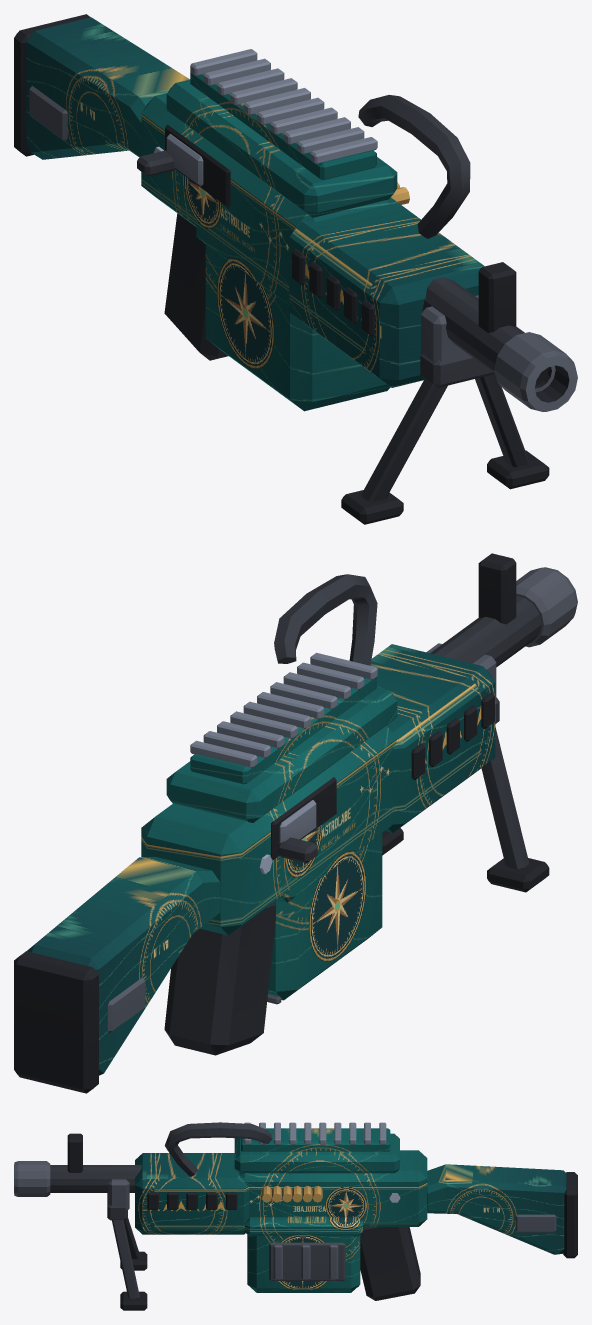
Rendered from M249_Astrolabe.glb.
3 views of the same model, one above another, from view 1: azimuth 30°, elevation 25°; view 2: azimuth 150°, elevation 25°; view 3: azimuth 270°, elevation 25° (orthographic). The views are drawn at different scales.
Visible parts, largest first — view 1: Main, Stock, Magazine, Bipod, Bolt; view 2: Main, Stock, Magazine, Bipod, Bolt; view 3: Main, Stock, Magazine, Bipod.
Boxes of the visible parts, x1,y1,x2,y2 form: Main: (141, 49, 577, 411); Stock: (14, 14, 189, 159); Magazine: (196, 226, 390, 411); Bipod: (341, 353, 549, 524); Bolt: (137, 134, 203, 186); Main: (141, 553, 577, 1055); Stock: (14, 857, 220, 1093); Magazine: (268, 815, 391, 1000); Bipod: (382, 697, 549, 892); Bolt: (278, 800, 317, 863); Main: (14, 1122, 427, 1300); Stock: (427, 1164, 577, 1258); Magazine: (244, 1217, 362, 1292); Bipod: (107, 1193, 147, 1310).
Size of the model in its own units: 0.884 by 1.49 by 4.06.
Materials: 2 (1 with a texture image).
